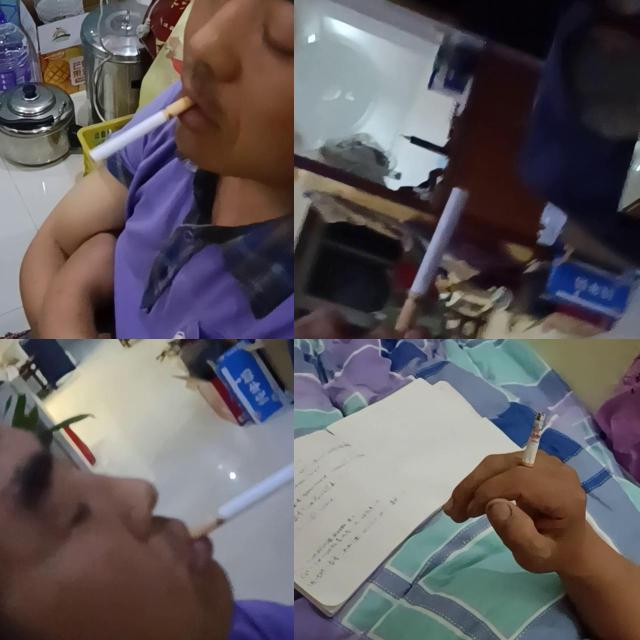smoking: (394, 184, 472, 334), (186, 458, 294, 544), (90, 96, 196, 164), (514, 410, 547, 480)
